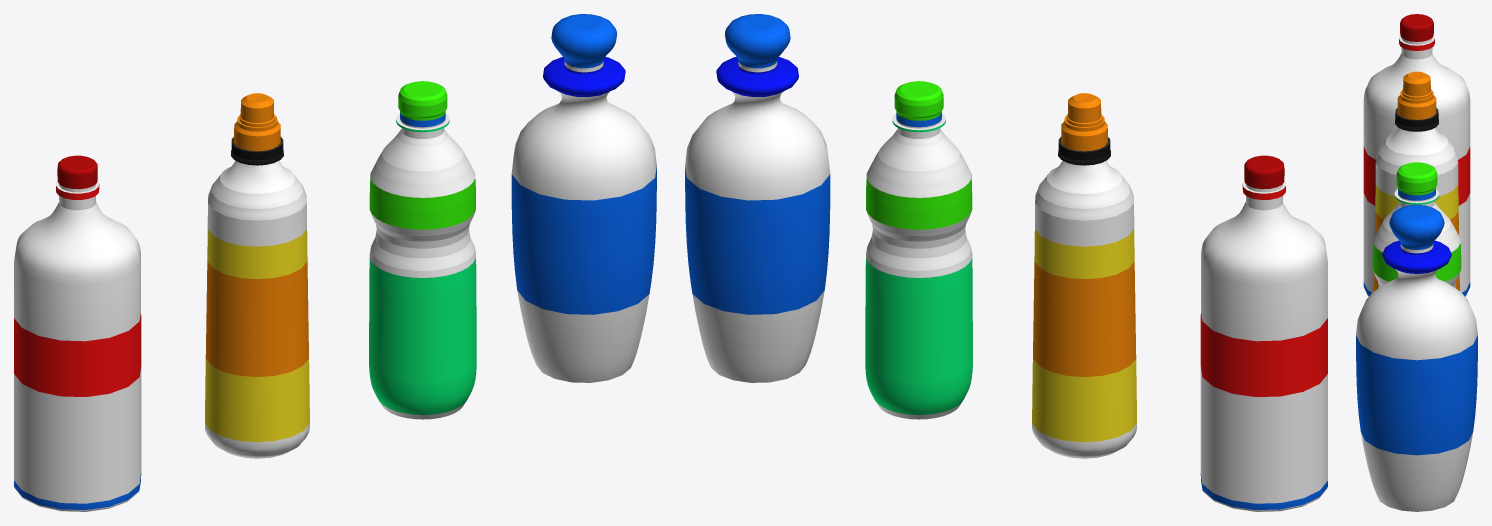
The model's file is Bottles.FBX.
3 views of the same model, side by side, from view 1: azimuth 30°, elevation 25°; view 2: azimuth 150°, elevation 25°; view 3: azimuth 270°, elevation 25° (orthographic). The views are drawn at different scales.
Parts seen in each view (by area): view 1: Bottle Blue, Bottle Red, Bottle Yellow, Bottle Green; view 2: Bottle Blue, Bottle Red, Bottle Yellow, Bottle Green; view 3: Bottle Blue, Bottle Red, Bottle Yellow, Bottle Green.
Boxes of the visible parts, <box> form: Bottle Blue: <box>511,14,656,382</box>; Bottle Red: <box>14,155,141,511</box>; Bottle Yellow: <box>205,93,309,458</box>; Bottle Green: <box>369,81,476,419</box>; Bottle Blue: <box>685,14,830,382</box>; Bottle Red: <box>1200,155,1327,511</box>; Bottle Yellow: <box>1032,93,1136,458</box>; Bottle Green: <box>865,81,972,419</box>; Bottle Blue: <box>1356,204,1477,511</box>; Bottle Red: <box>1363,14,1470,296</box>; Bottle Yellow: <box>1374,71,1459,290</box>; Bottle Green: <box>1372,162,1461,288</box>.
Size of the model in its own units: 331 by 174 by 67.15.
Materials: 12 (1 with a texture image).
